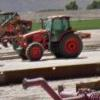Tractor: (10, 9, 88, 63)
